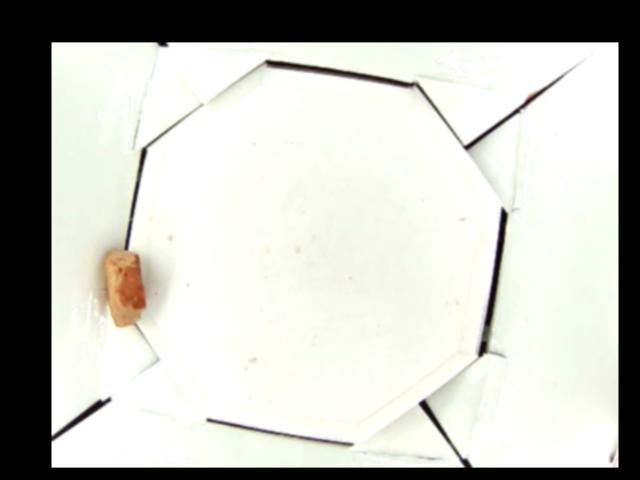Brisk: (102, 249, 147, 328)
